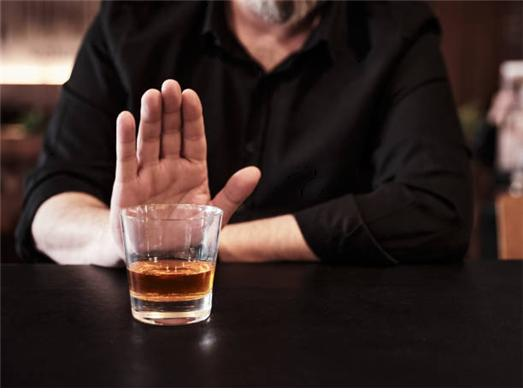alcohol: (121, 203, 223, 326)
